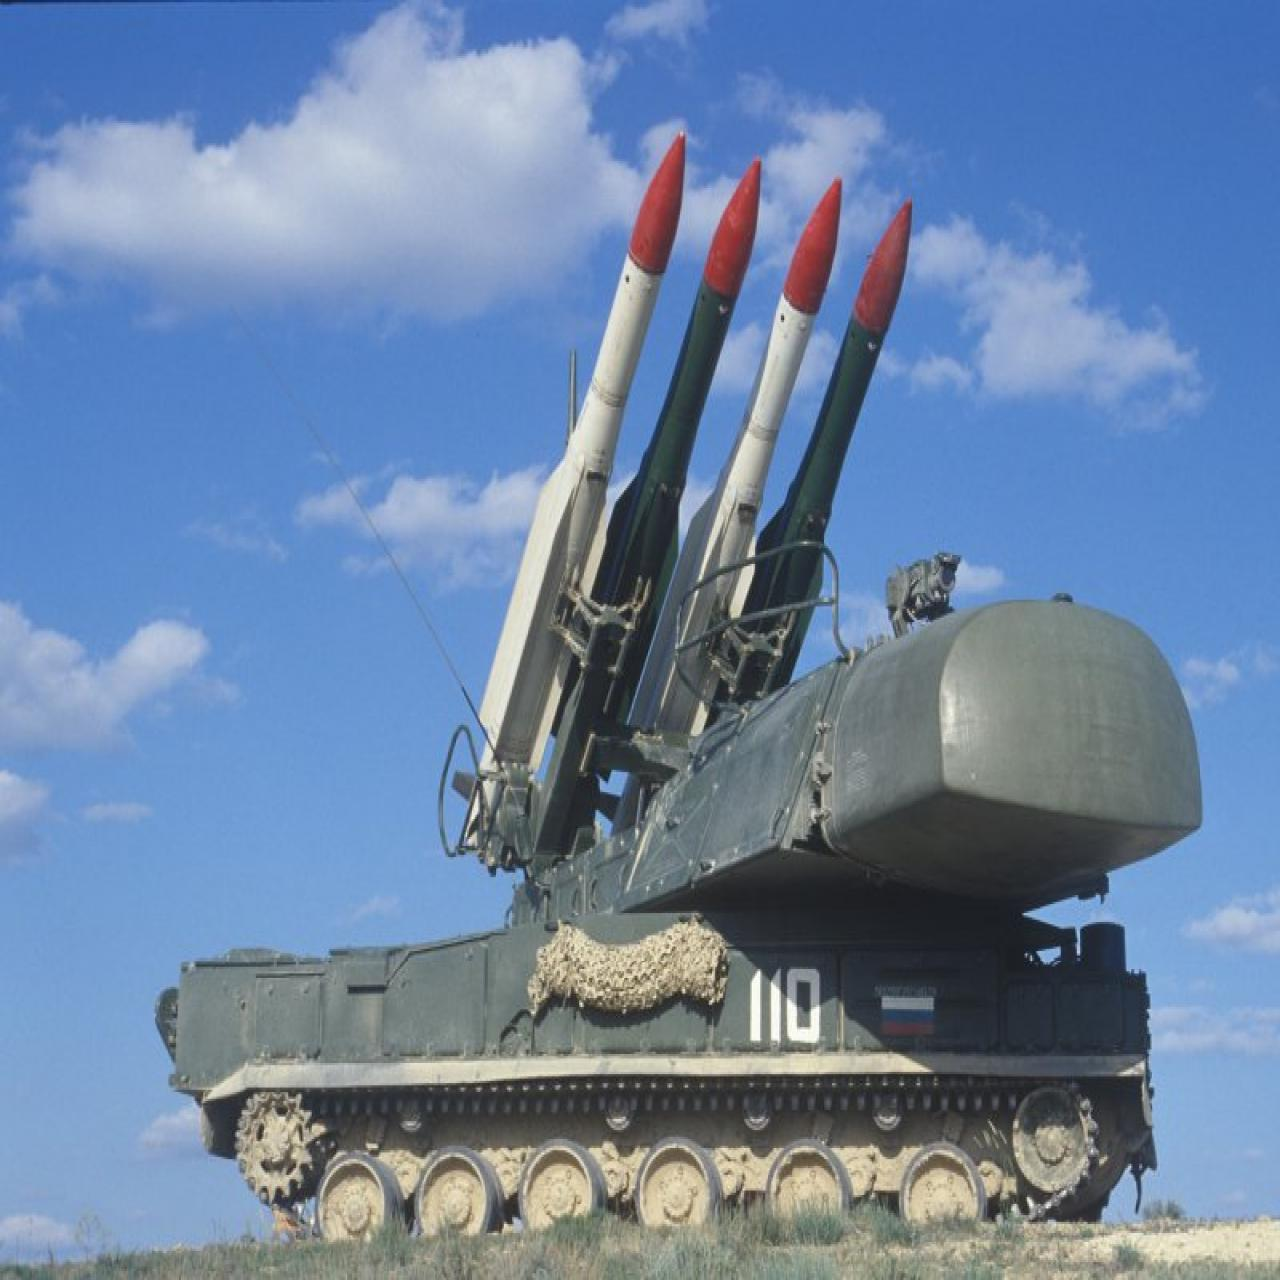MIL_Veh: (157, 148, 1199, 1242)
